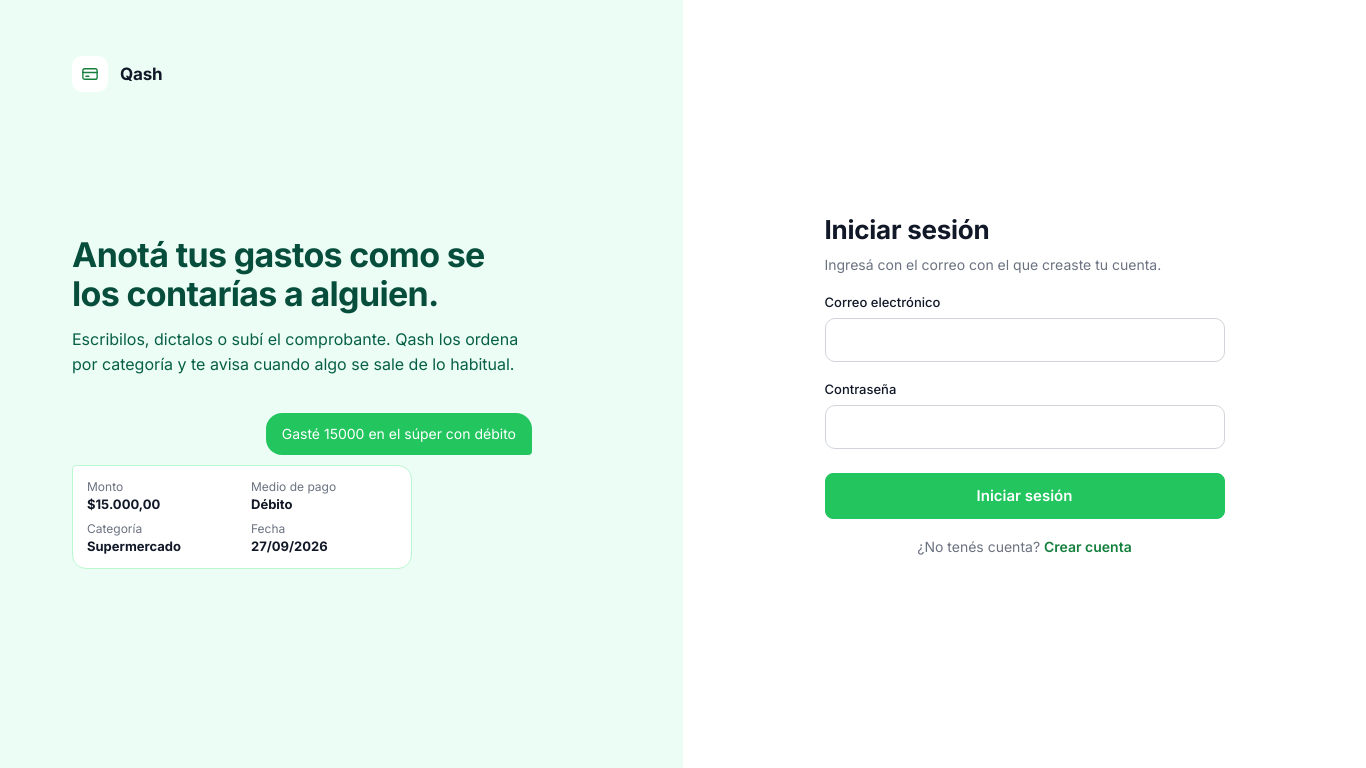
Login › hu02_ca1 mensaje unico cuando el correo o la contrasena son incorrectos
This screenshot has width=1366, height=768.
Type "luciano.vera@mail.com" into the field labelled "Correo electrónico".
click(1024, 340); type("luciano.vera@mail.com")  # box top-left (824, 318), bottom-right (1224, 362)
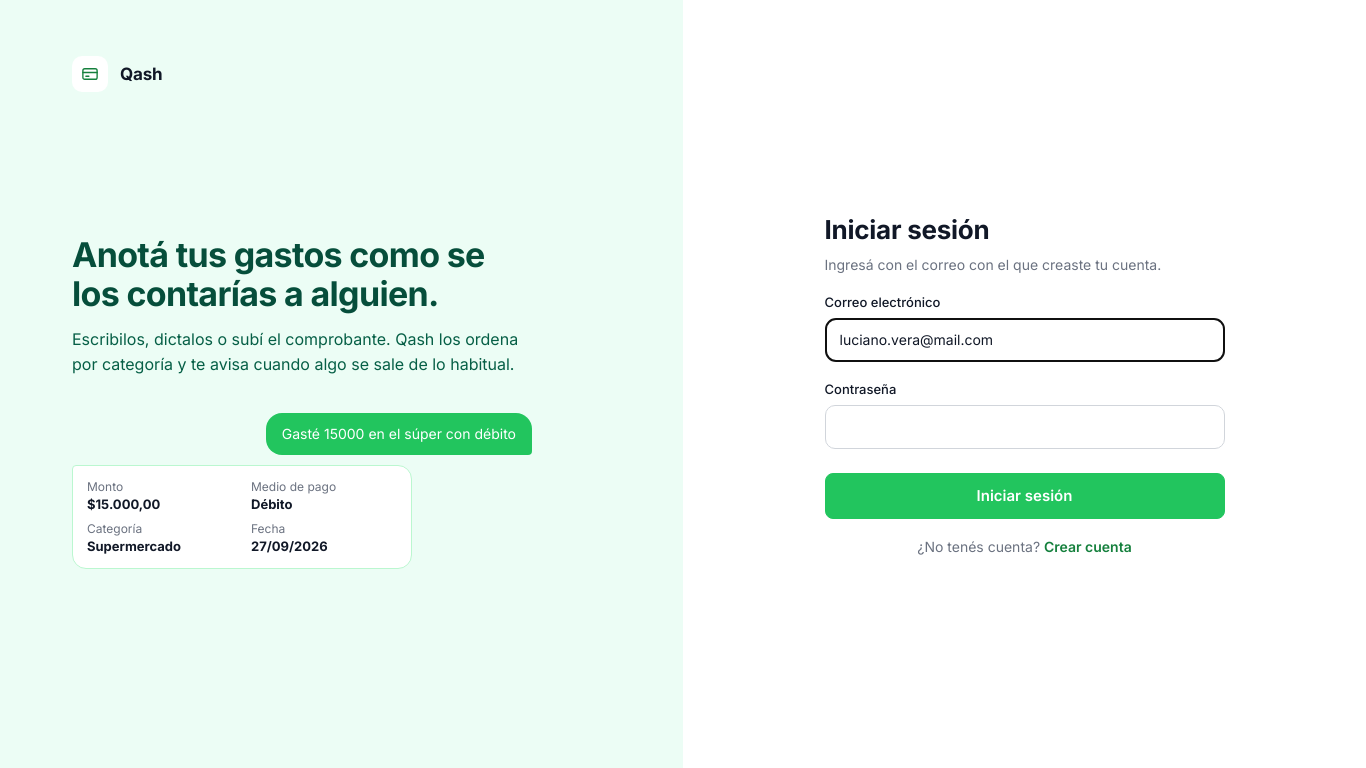
Type "incorrecta" into the password field labelled "Contraseña".
click(1024, 427); type("incorrecta")  # box top-left (824, 405), bottom-right (1224, 449)
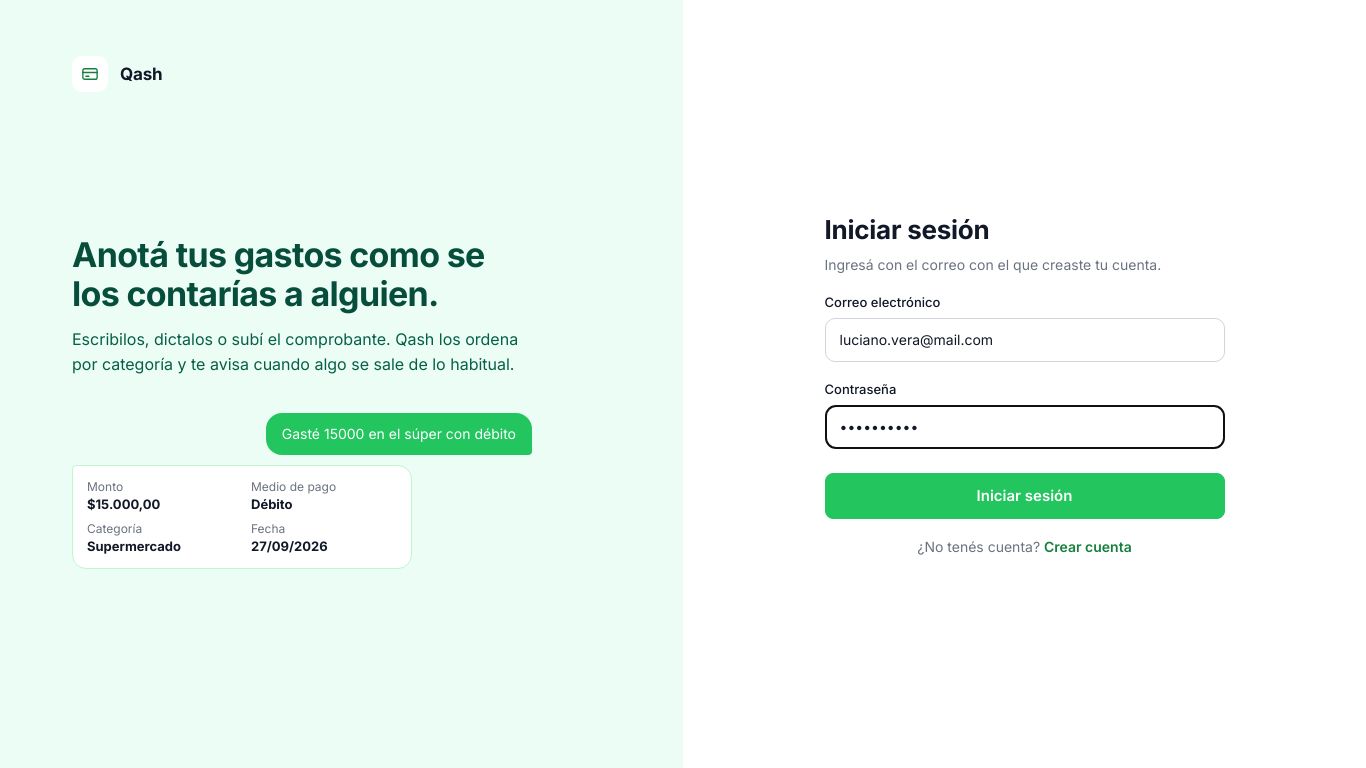
Click the button "Iniciar sesión".
click(1024, 496)  # box top-left (824, 473), bottom-right (1224, 519)
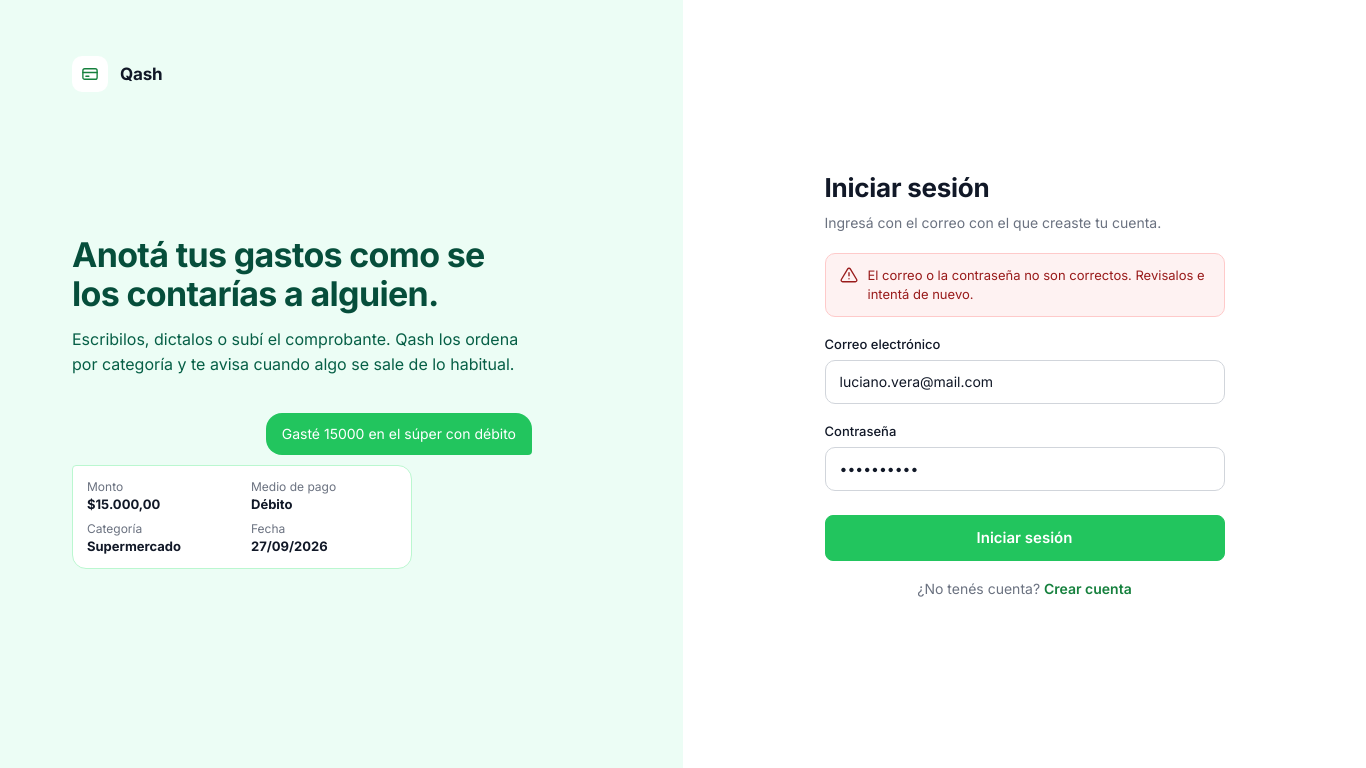
Expected: the text "El correo o la contraseña no son correctos. Revisalos e intentá de nuevo." is shown, top-left (868, 266), bottom-right (1210, 304)
